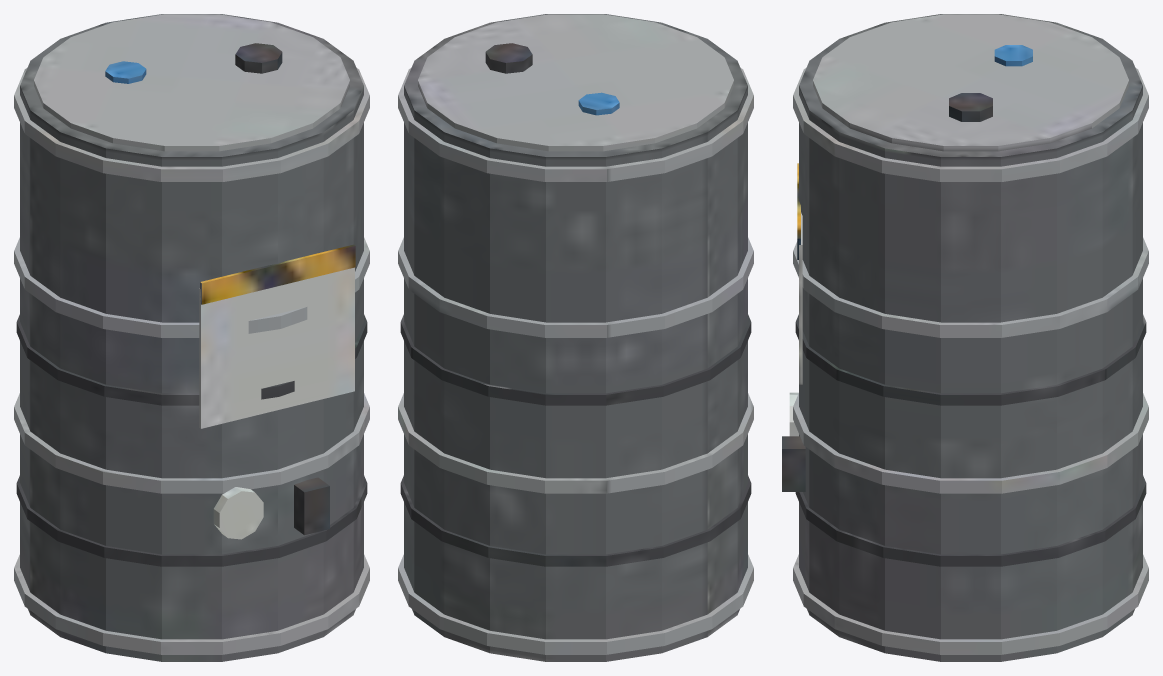
File: chemical_drum_tex.glb
3 views of the same model, side by side, from view 1: azimuth 30°, elevation 25°; view 2: azimuth 150°, elevation 25°; view 3: azimuth 270°, elevation 25° (orthographic).
Visible parts, largest first — view 1: chemical_drum_drum, chemical_drum_base; view 2: chemical_drum_drum, chemical_drum_base; view 3: chemical_drum_drum, chemical_drum_base.
Boxes of the visible parts, x1,y1,x2,y2 form: chemical_drum_drum: (20,14,363,661); chemical_drum_base: (14,14,369,654); chemical_drum_drum: (404,14,747,661); chemical_drum_base: (398,14,753,654); chemical_drum_drum: (799,14,1142,661); chemical_drum_base: (782,14,1148,654).
Size of the model in its own units: 0.1478 by 0.2425 by 0.1547.
1 material, 1 textured.
